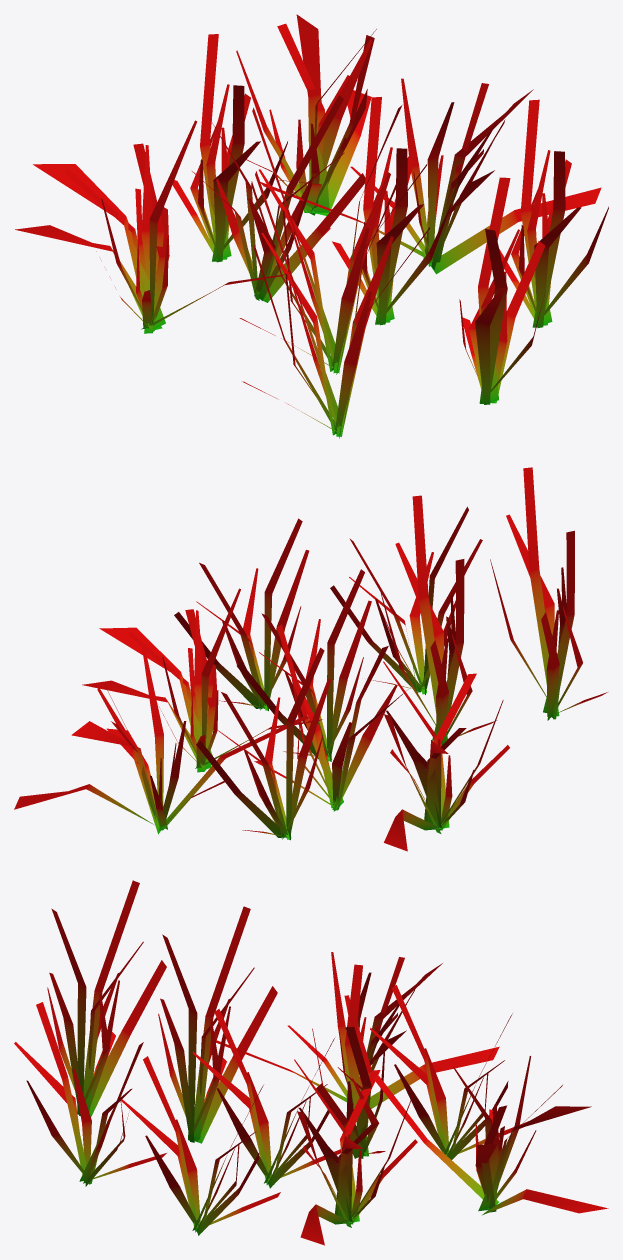
File: grass.fbx
3 renders of one model, top to bottom at view 1: azimuth 30°, elevation 25°; view 2: azimuth 150°, elevation 25°; view 3: azimuth 270°, elevation 25°, orthographic. The views are drawn at different scales.
Parts seen in each view (by area): view 1: polySurface58; view 2: polySurface58; view 3: polySurface58.
Part boxes in pixels (left/top/right/bottom): polySurface58: left=15, top=14, right=608, bottom=438; polySurface58: left=14, top=467, right=607, bottom=851; polySurface58: left=14, top=880, right=608, bottom=1245.
Bounding box in the file's own units: 0.5164 × 0.2734 × 0.633.
